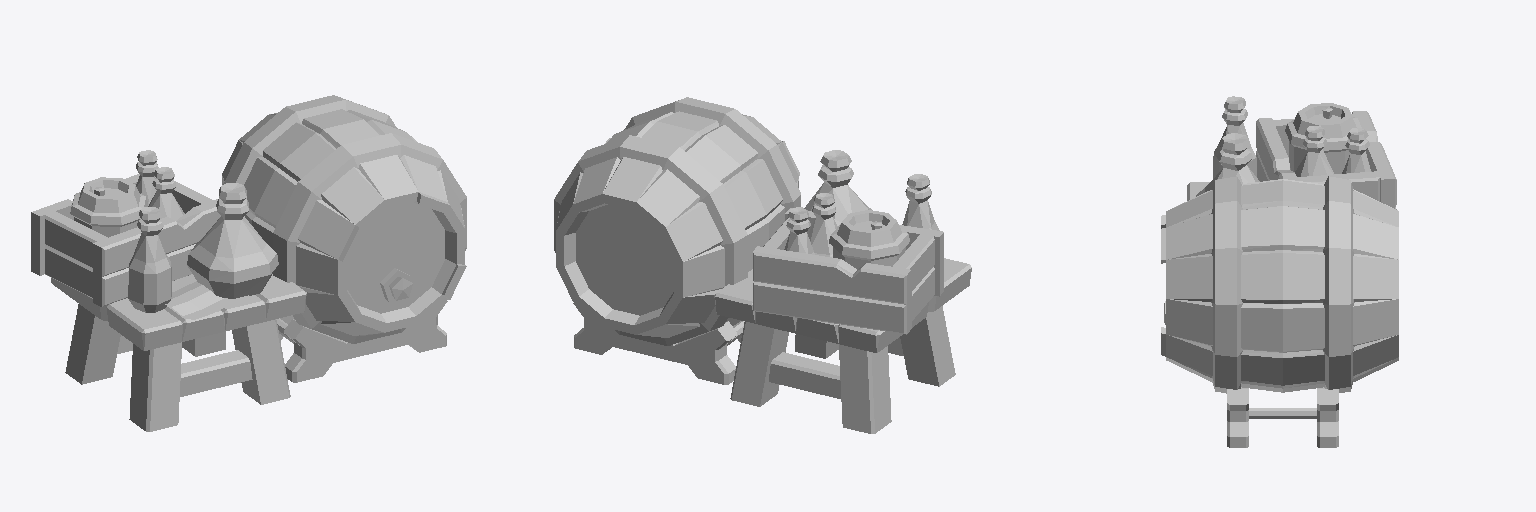
Rendered from keg_decorated.obj.
3 renders of one model, left to right at view 1: azimuth 30°, elevation 25°; view 2: azimuth 150°, elevation 25°; view 3: azimuth 270°, elevation 25°, orthographic.
Visible parts, largest first — view 1: keg_decorated_Cube.024; view 2: keg_decorated_Cube.024; view 3: keg_decorated_Cube.024.
Part boxes in pixels (bbox=[...]): keg_decorated_Cube.024: bbox=[31, 95, 466, 431]; keg_decorated_Cube.024: bbox=[554, 97, 971, 433]; keg_decorated_Cube.024: bbox=[1161, 96, 1398, 447].
Bounding box in the file's own units: 3.52 × 2.05 × 2.